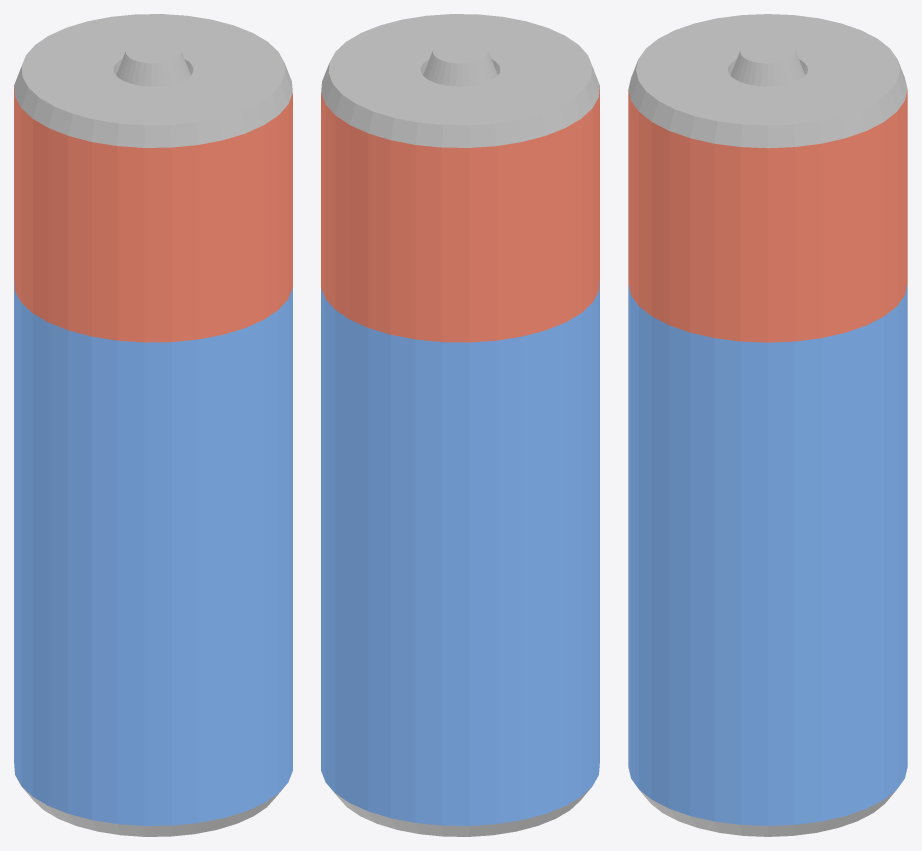
The model's file is bateria.gltf.
The picture shows the model from 3 angles, left to right: view 1: azimuth 30°, elevation 25°; view 2: azimuth 150°, elevation 25°; view 3: azimuth 270°, elevation 25°; orthographic projection.
Visible parts, largest first — view 1: Cylinder; view 2: Cylinder; view 3: Cylinder.
Part boxes in pixels (x1,y1,x2,y2): Cylinder: (14,14,292,836); Cylinder: (321,14,599,836); Cylinder: (628,14,907,836).
Size of the model in its own units: 0.349 by 1.01 by 0.349.
